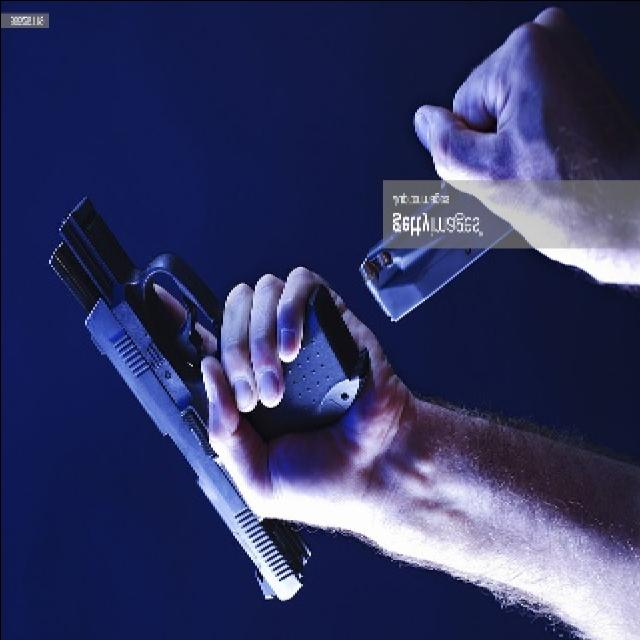handgun: (45, 198, 361, 616)
